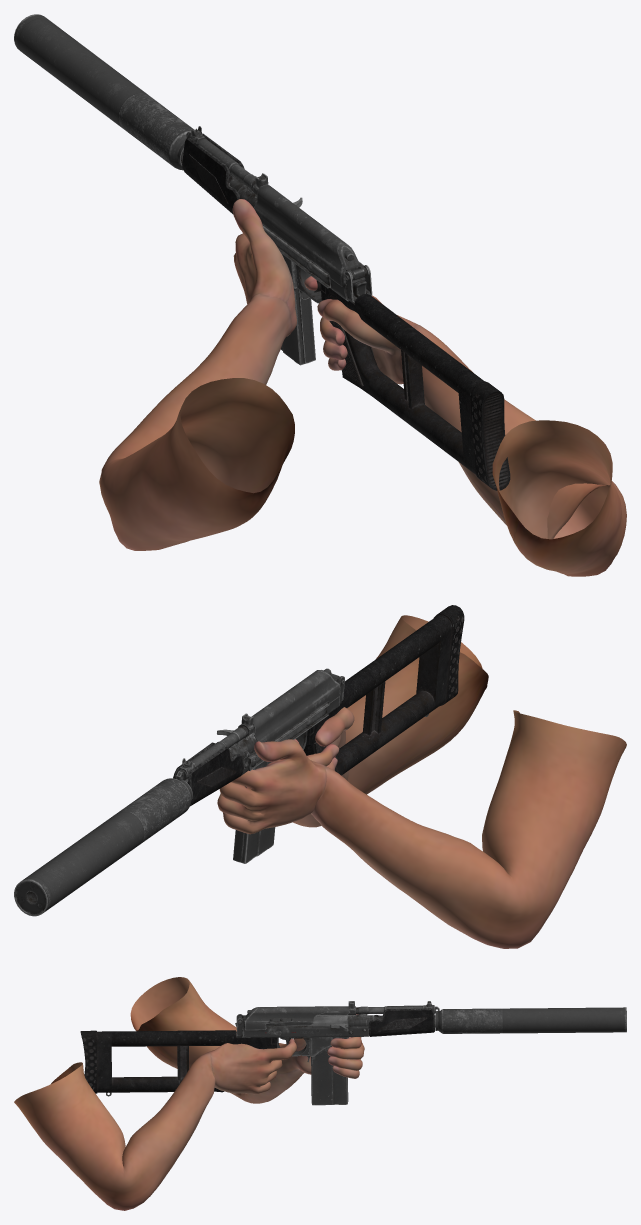
Rendered from FPS_VSK1.fbx.
3 views of the same model, one above another, from view 1: azimuth 30°, elevation 25°; view 2: azimuth 150°, elevation 25°; view 3: azimuth 270°, elevation 25° (orthographic). The views are drawn at different scales.
Parts seen in each view (by area): view 1: Male_04_Animation_Ready, VSK-94; view 2: Male_04_Animation_Ready, VSK-94; view 3: Male_04_Animation_Ready, VSK-94.
Boxes of the visible parts, left/top/right/bottom form: Male_04_Animation_Ready: left=99, top=199, right=626, bottom=576; VSK-94: left=14, top=14, right=510, bottom=490; Male_04_Animation_Ready: left=217, top=615, right=626, bottom=948; VSK-94: left=14, top=605, right=464, bottom=916; Male_04_Animation_Ready: left=14, top=977, right=364, bottom=1210; VSK-94: left=80, top=1001, right=626, bottom=1105.
Bounding box in the file's own units: 48.55 × 32.5 × 106.
Materials: 4 (4 with a texture image).
